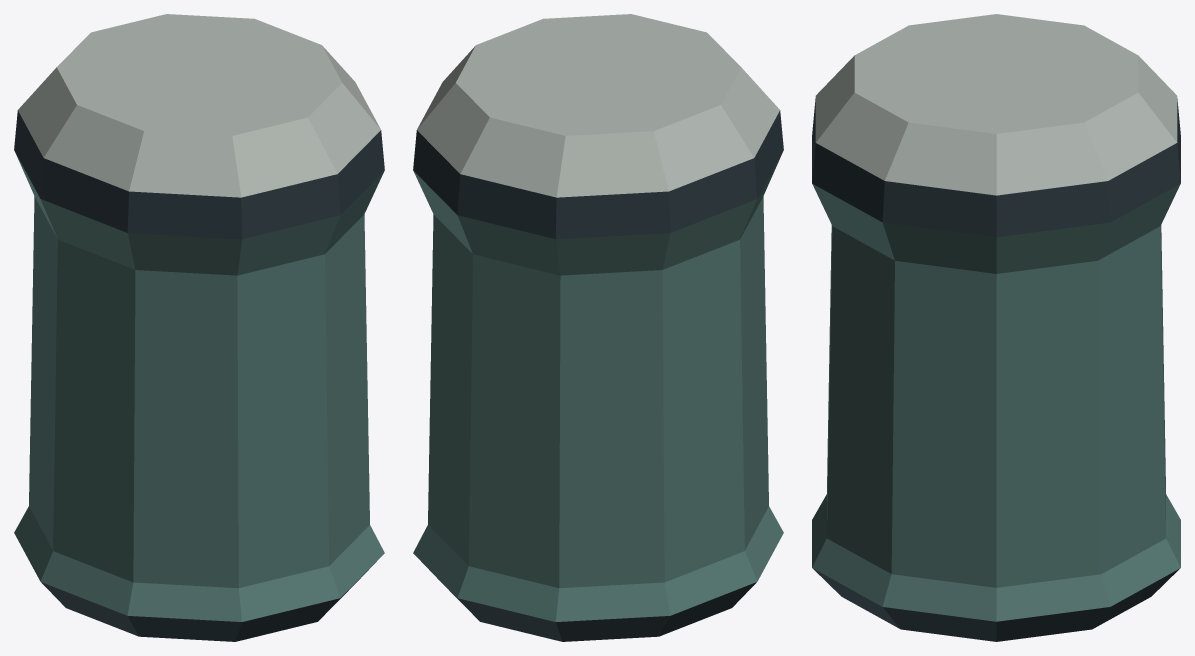
The model's file is K-10_drum.glb.
The picture shows the model from 3 angles, left to right: view 1: azimuth 30°, elevation 25°; view 2: azimuth 150°, elevation 25°; view 3: azimuth 270°, elevation 25°; orthographic projection.
Visible parts, largest first — view 1: K-10_drum; view 2: K-10_drum; view 3: K-10_drum.
Boxes of the visible parts, x1=… form: K-10_drum: x1=14, y1=14, x2=384, y2=641; K-10_drum: x1=413, y1=14, x2=783, y2=641; K-10_drum: x1=812, y1=14, x2=1180, y2=641.
Size of the model in its own units: 0.58 by 0.872 by 0.58.
